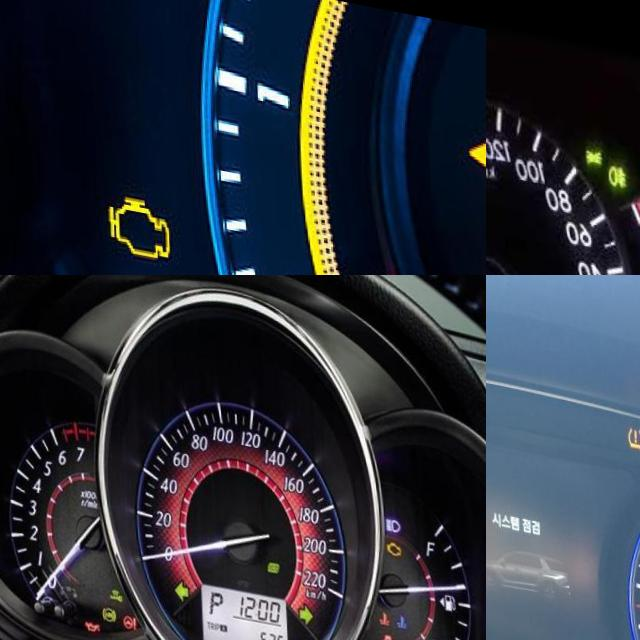Electronic Power Steering: (118, 608, 132, 624)
High Engine Coolant Temperature: (375, 595, 386, 610)
Seat Belt: (394, 626, 404, 640)
